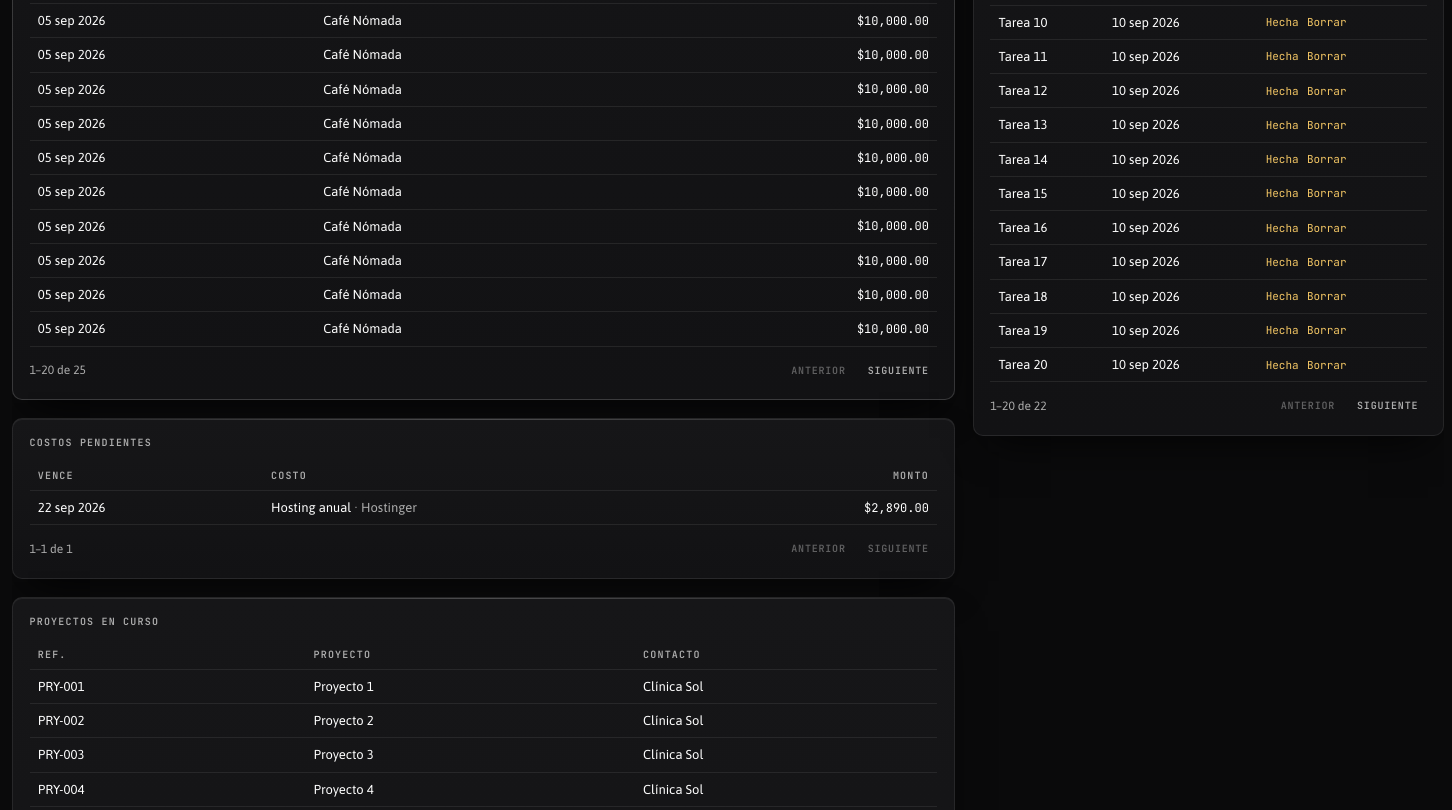
Test: Inicio, 20 a page › keeps the page when a Tarea is marked Hecha
(page scrolled)
Click the button "Siguiente" in the row of "1–20 de 22": {"x": 1388, "y": 406} [1349,393,1426,418]
(page scrolled)
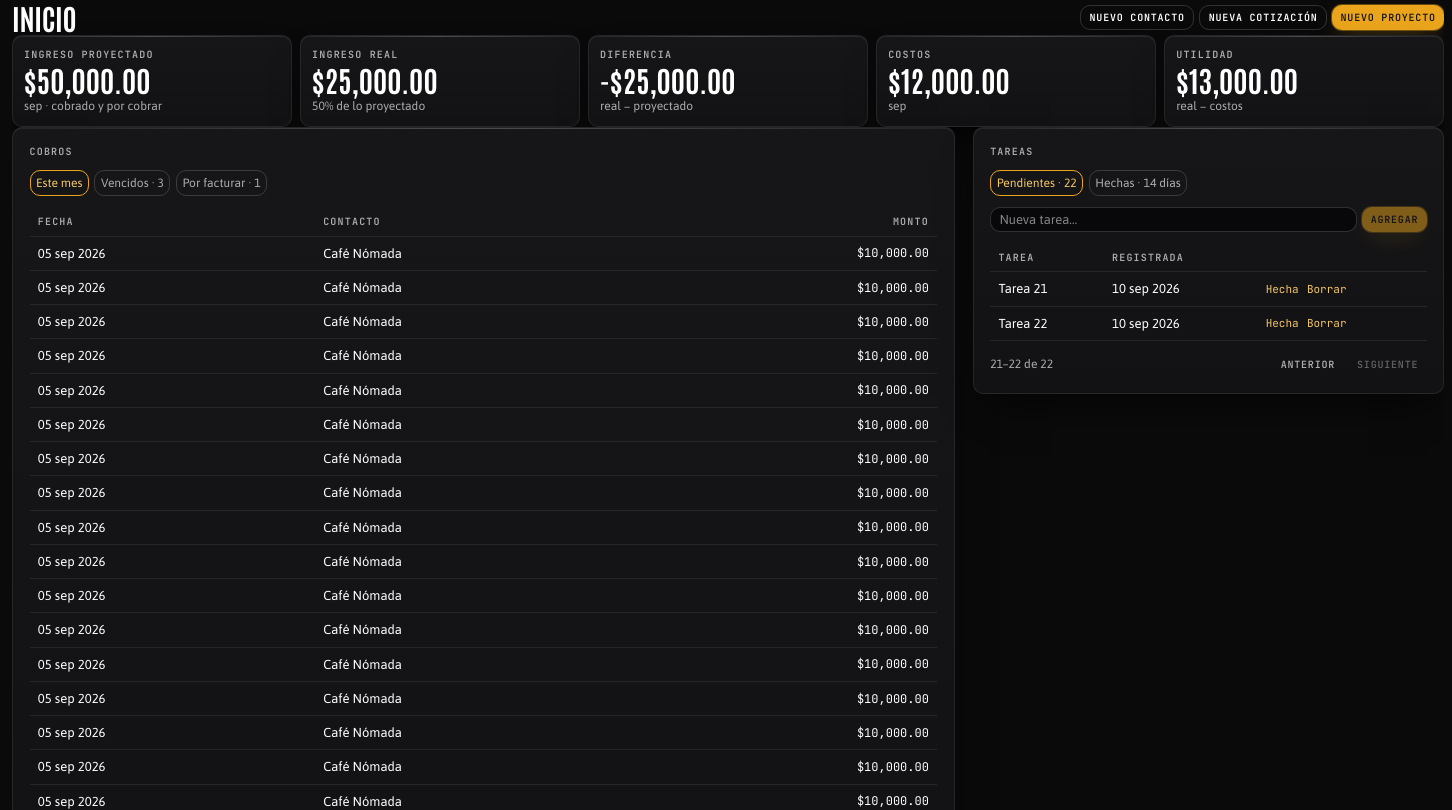
Click the button "Hecha" in the row of "Tarea 21": {"x": 1282, "y": 289} [1266,281,1299,297]
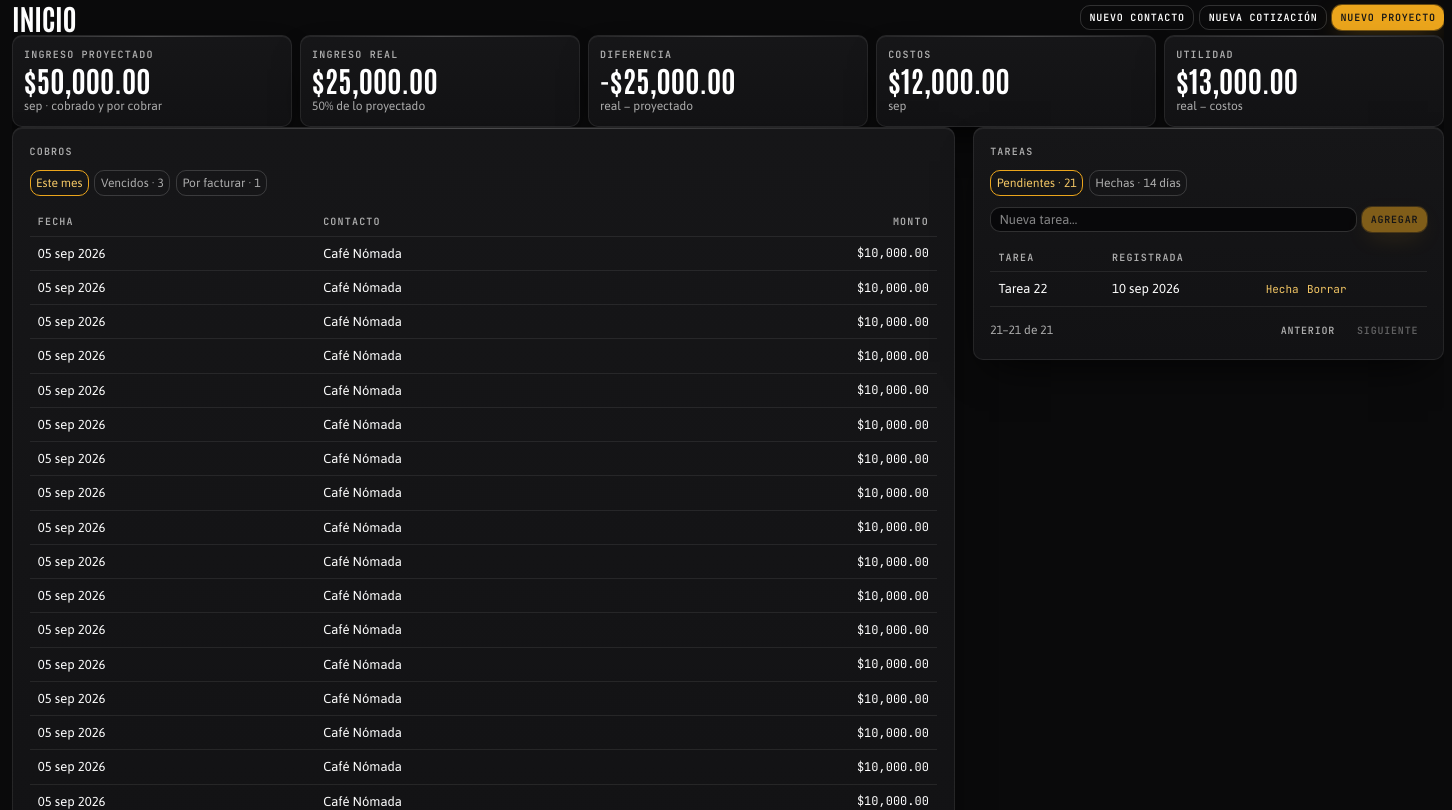
Expected: the text "21–21 de 21" is shown, [990,321,1053,339]
